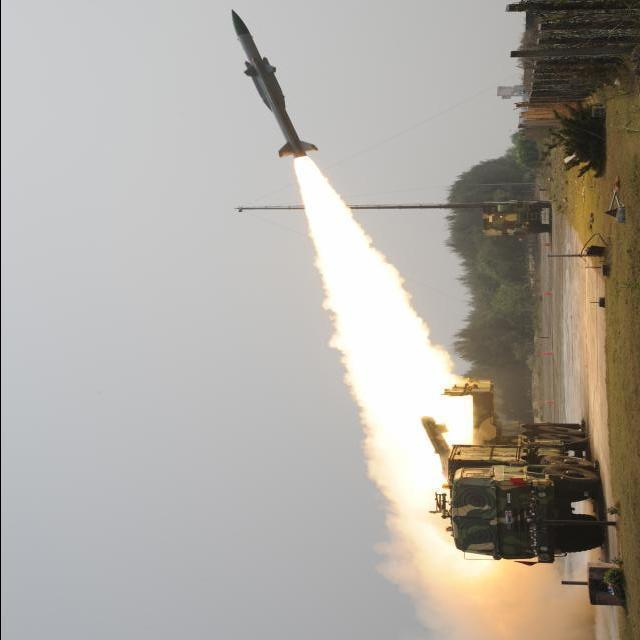missile: (220, 7, 313, 168)
